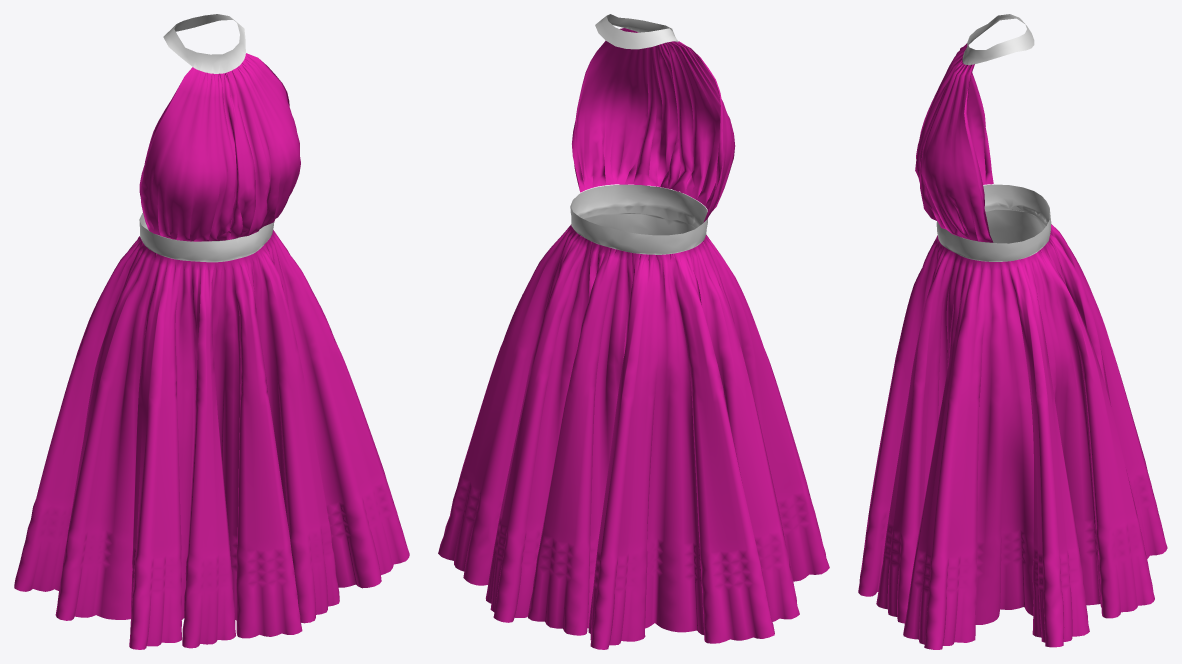
Rendered from ballerina_in_one_piece.fbx.
3 renders of one model, left to right at view 1: azimuth 30°, elevation 25°; view 2: azimuth 150°, elevation 25°; view 3: azimuth 270°, elevation 25°, orthographic. The views are drawn at different scales.
Visible parts, largest first — view 1: Skirt, Top, Detail; view 2: Skirt, Top, Detail; view 3: Skirt, Top, Detail.
Part boxes in pixels (x1,y1,x2,y2): Skirt: (14, 230, 409, 649); Top: (139, 53, 300, 241); Detail: (139, 14, 274, 262); Skirt: (438, 224, 829, 649); Top: (572, 28, 735, 222); Detail: (570, 14, 707, 254); Skirt: (858, 224, 1167, 649); Top: (915, 43, 993, 242); Detail: (936, 14, 1051, 261).
Bounding box in the file's own units: 61.91 × 101 × 50.32.
